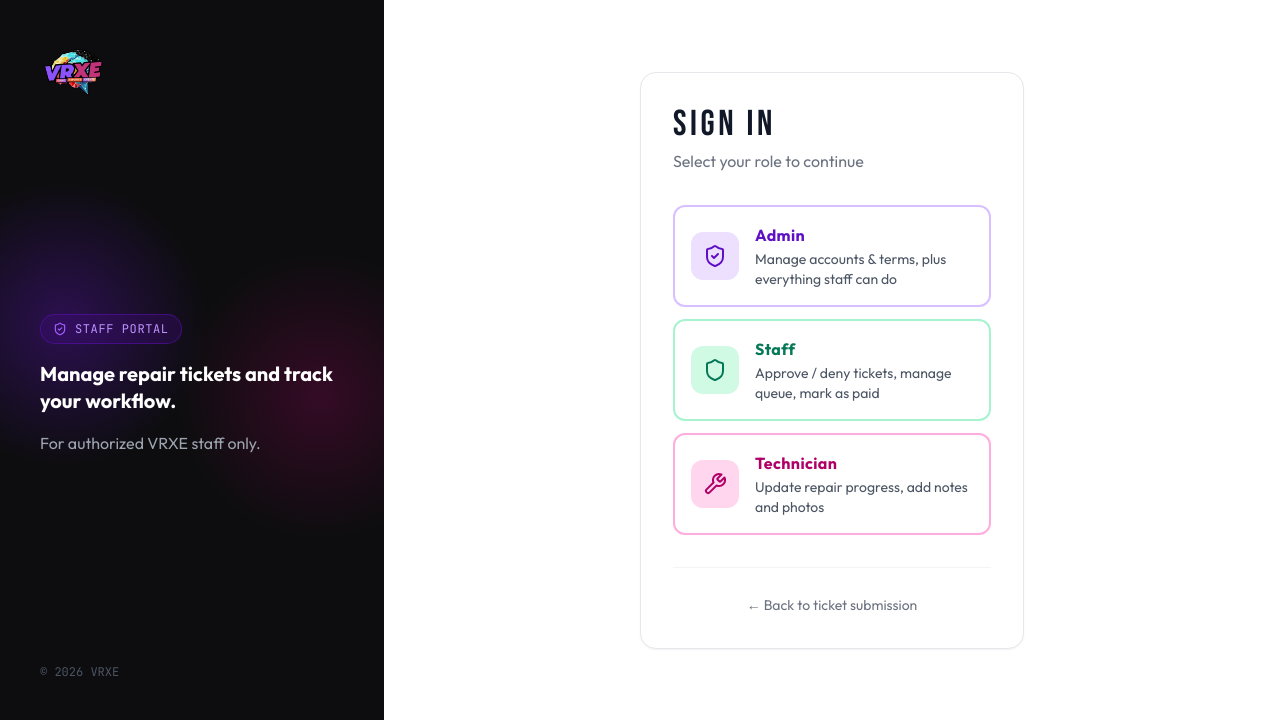
it: LoginPage — step 1 (role selection) › advances to step 2 when a role is clicked
This screenshot has width=1280, height=720.
Click the text "Admin". click: {"x": 780, "y": 234}
box: [755,224,805,244]
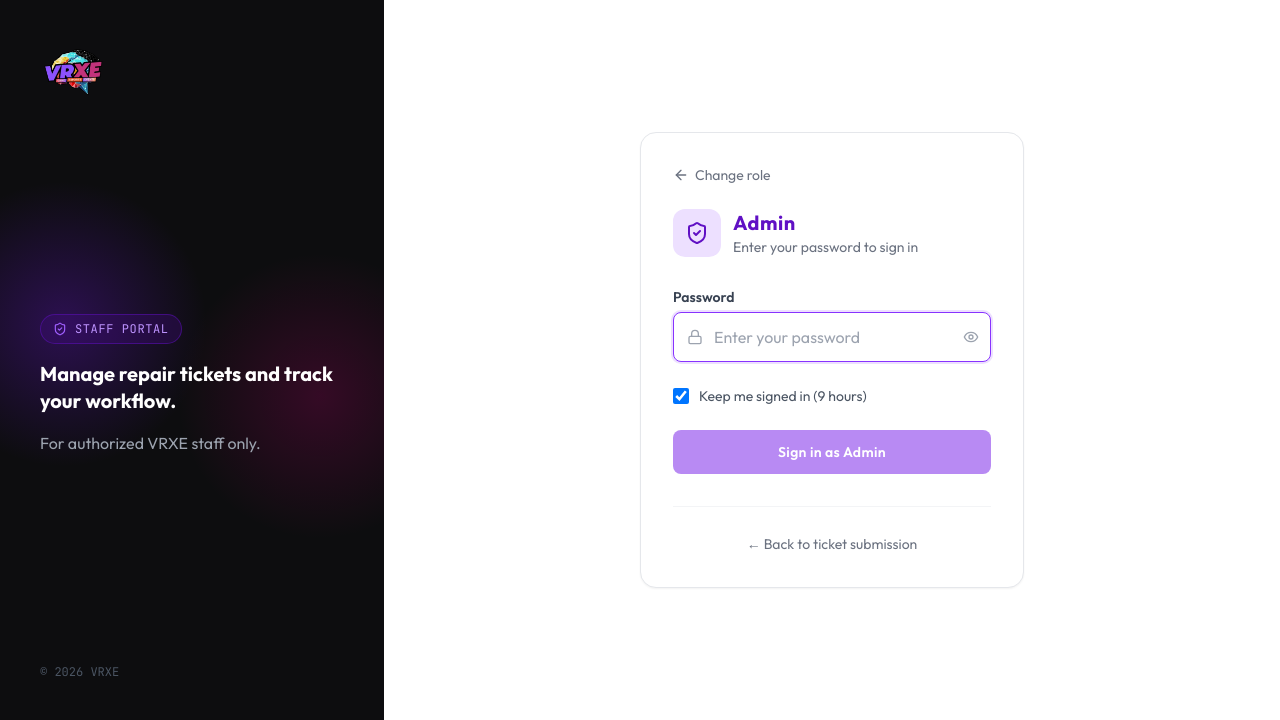
Check: the password field with placeholder "Enter your password" is shown, box [673,312,991,362]
